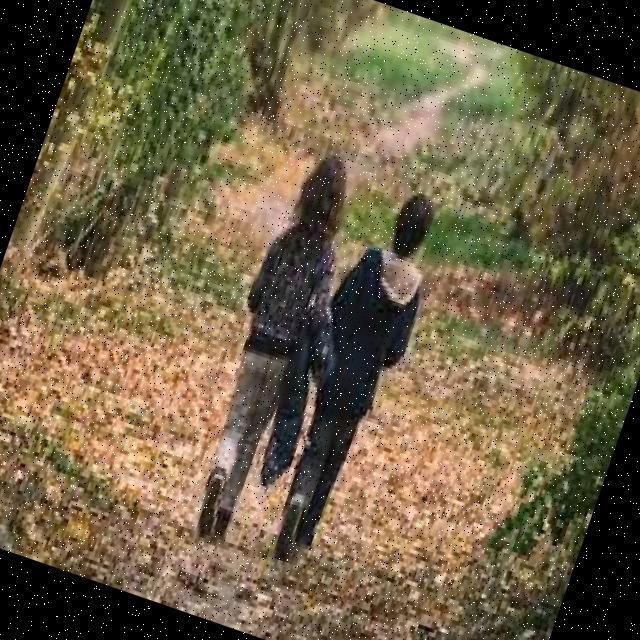Person: (171, 143, 379, 551), (249, 178, 455, 577)
